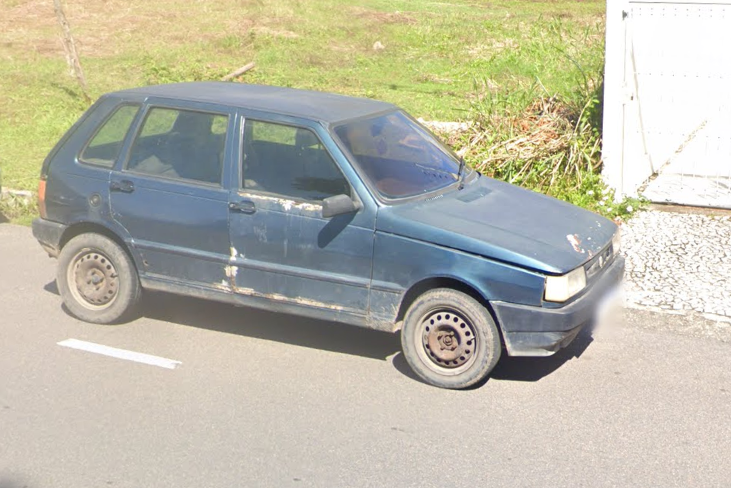car: (32, 76, 629, 394)
